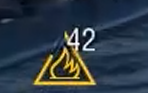1fire: (29, 54, 99, 89)
